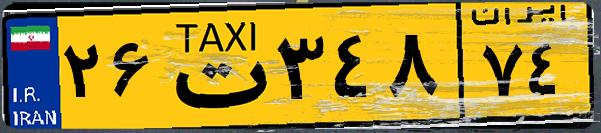2: (57, 26, 110, 100)
3: (270, 28, 330, 110)
4: (330, 28, 385, 110), (525, 38, 570, 115)
6: (110, 28, 158, 98)
7: (475, 38, 525, 113)
8: (385, 28, 445, 110)
ت: (158, 12, 270, 120)
